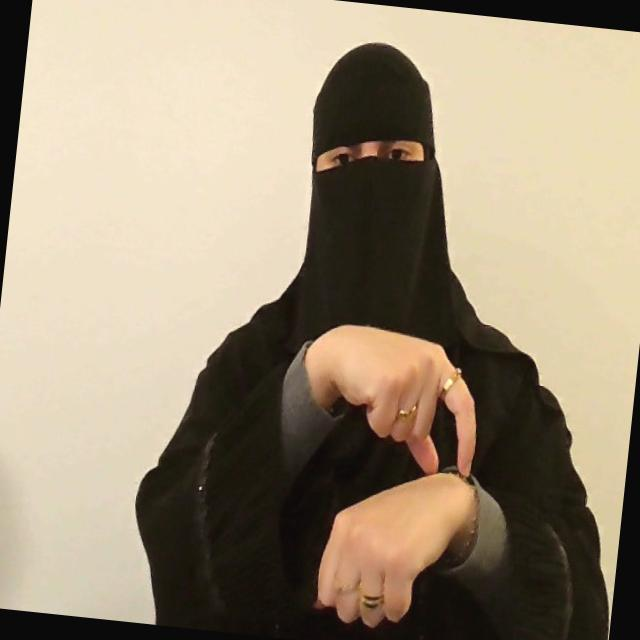appointment: (291, 318, 490, 636)
